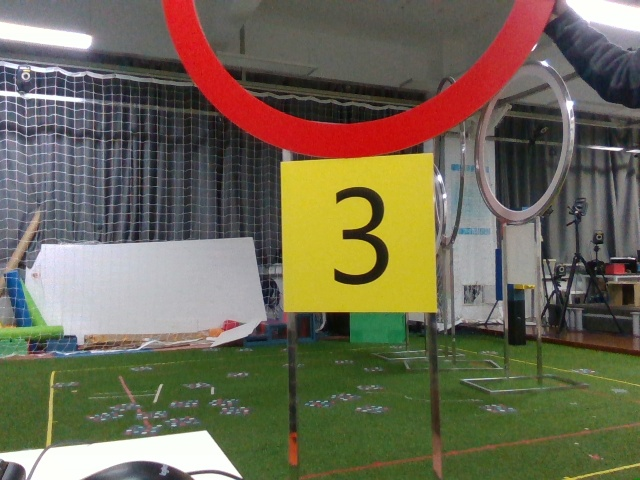target: (284, 158, 434, 314)
